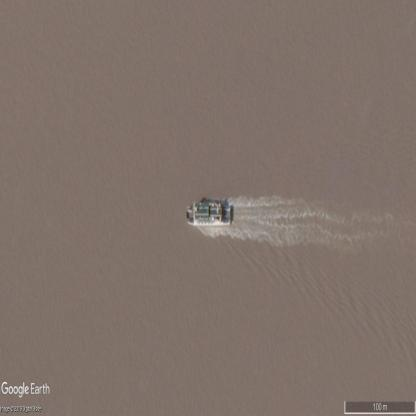ship: (186, 201, 231, 225)
